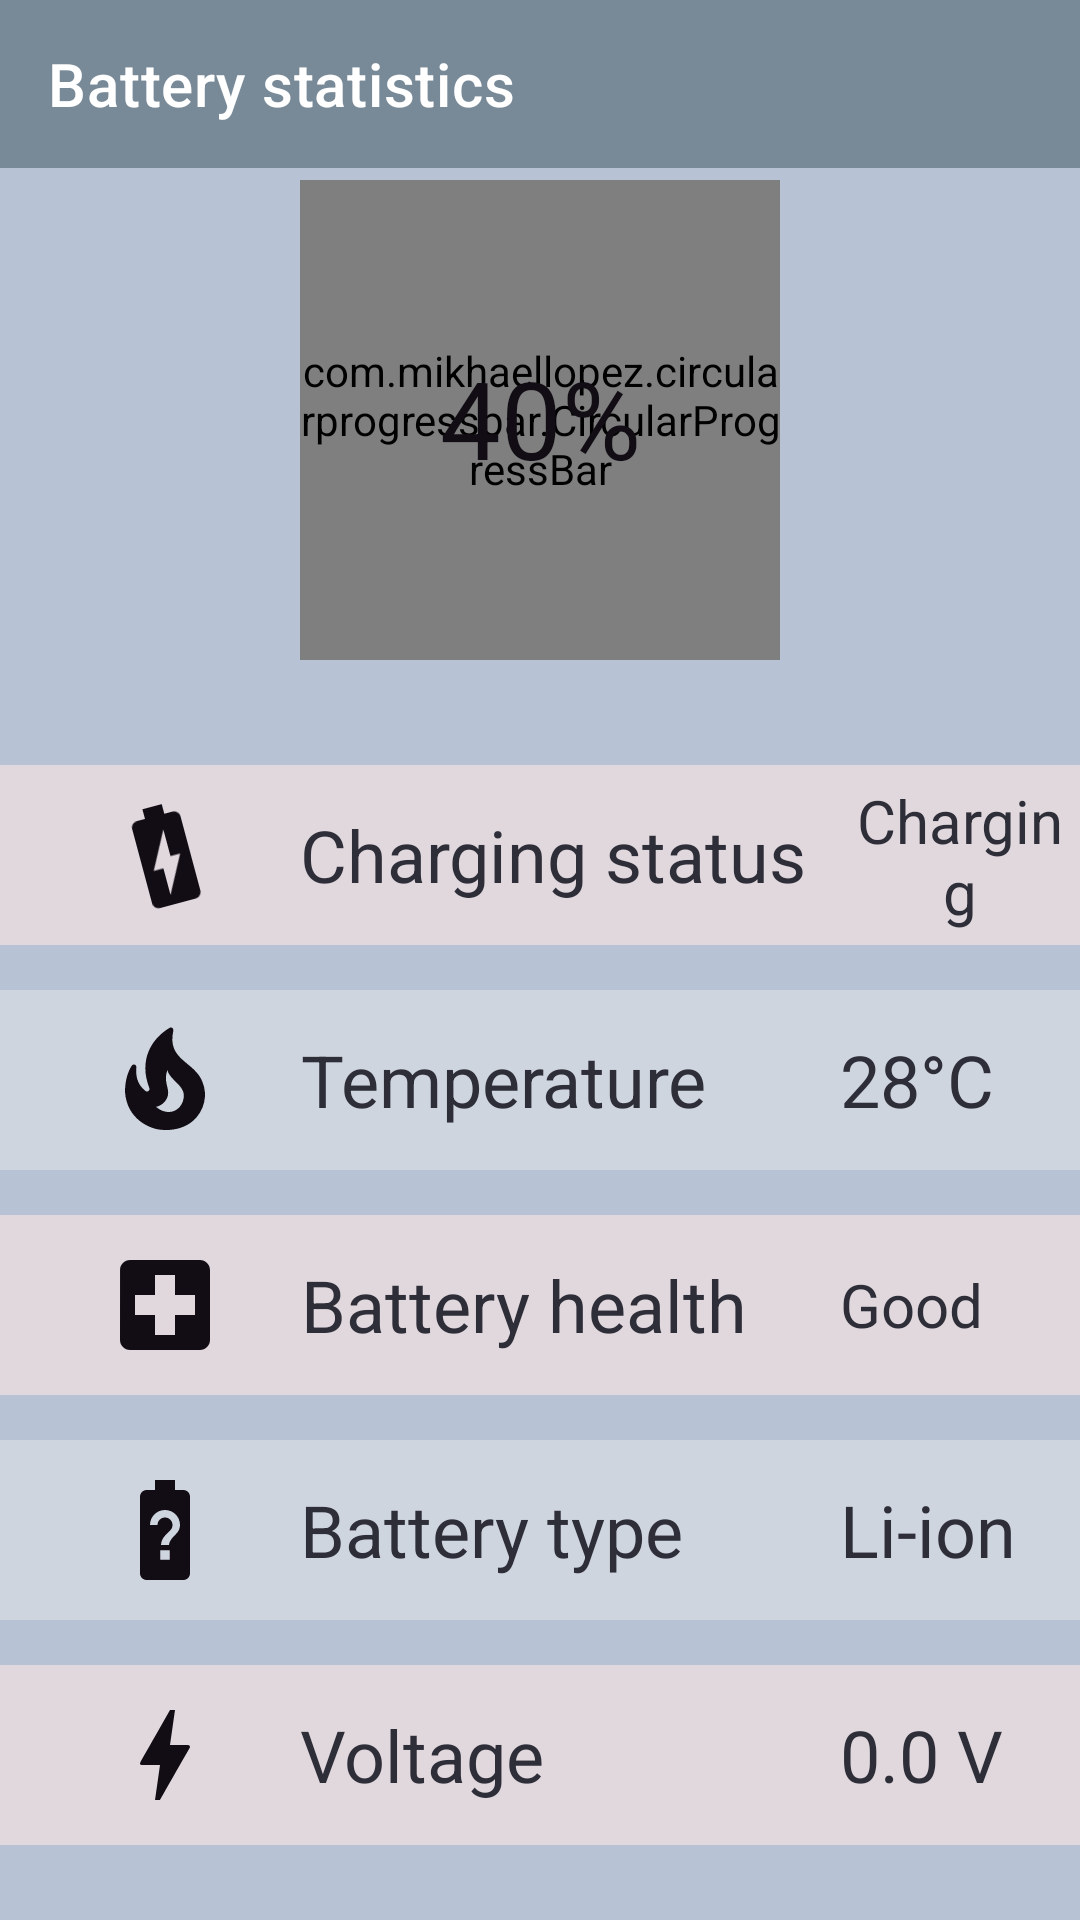

Icons on this 1080px x 1920px Android screen, each with its box as (x1, y1, x2, y2):
battery unknown: (140, 1480, 190, 1580)
bolt: (140, 1710, 190, 1800)
local fire department: (125, 1027, 205, 1130)
local hospital: (120, 1260, 210, 1350)
